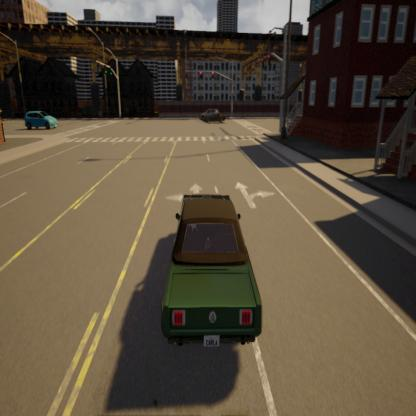Cars: (156, 187, 268, 353), (22, 106, 61, 136), (197, 104, 228, 129)
